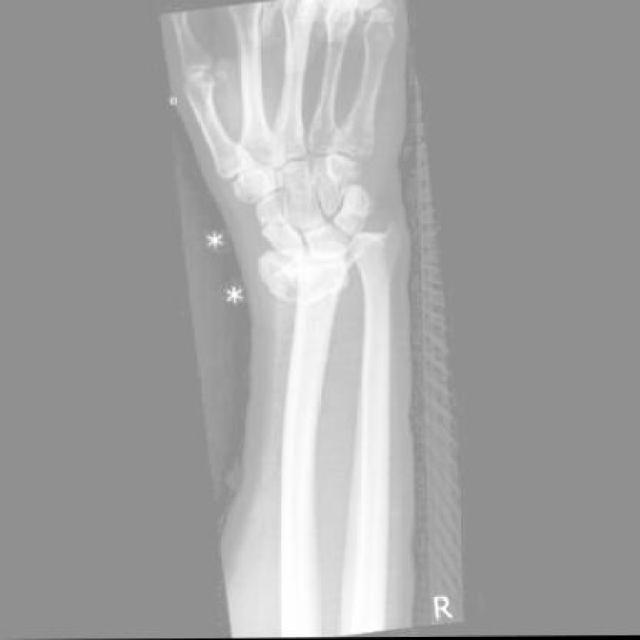Fracture: (254, 237, 362, 321), (251, 210, 294, 244)
